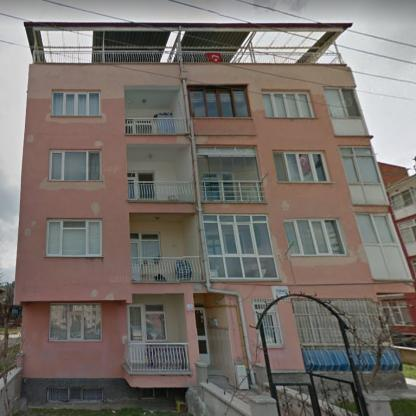door: (128, 306, 143, 362), (195, 310, 210, 362)
window: (202, 215, 277, 278), (196, 147, 262, 201), (324, 300, 388, 344), (292, 300, 343, 345), (285, 220, 345, 255), (47, 220, 101, 254), (50, 304, 101, 340), (190, 88, 250, 118), (274, 152, 330, 182), (338, 147, 381, 185), (50, 151, 101, 181), (355, 214, 396, 245), (261, 93, 312, 117), (52, 92, 100, 116), (324, 89, 362, 117), (129, 233, 160, 263), (143, 304, 166, 340), (127, 173, 155, 199), (382, 301, 412, 324), (263, 305, 279, 344), (390, 189, 414, 210), (397, 219, 416, 244), (253, 299, 272, 312)
